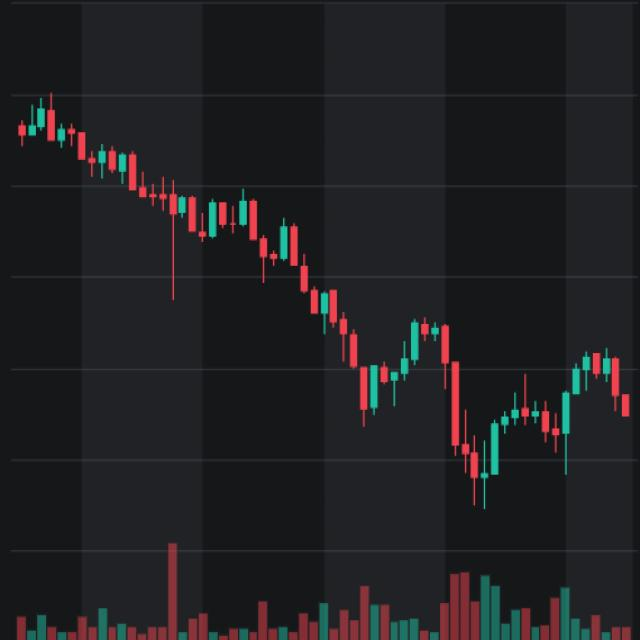Support-breakout: (13, 95, 393, 423)
